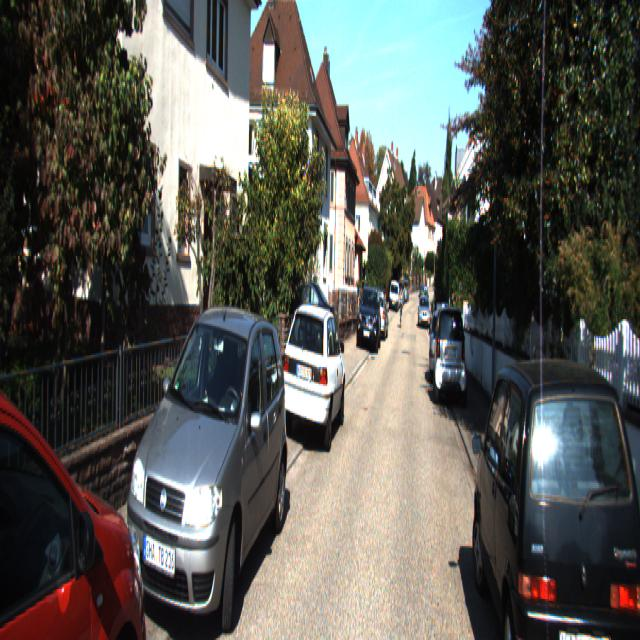Car: (120, 306, 294, 638), (0, 319, 158, 638), (472, 343, 640, 638), (280, 298, 348, 451), (432, 300, 468, 408), (433, 312, 461, 386), (355, 285, 382, 353)
